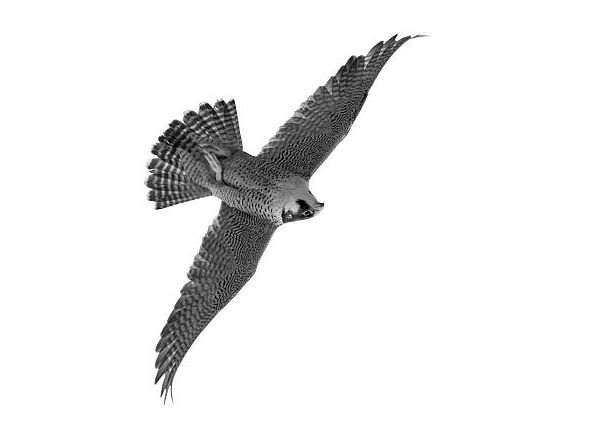Bird: (141, 27, 436, 409)
